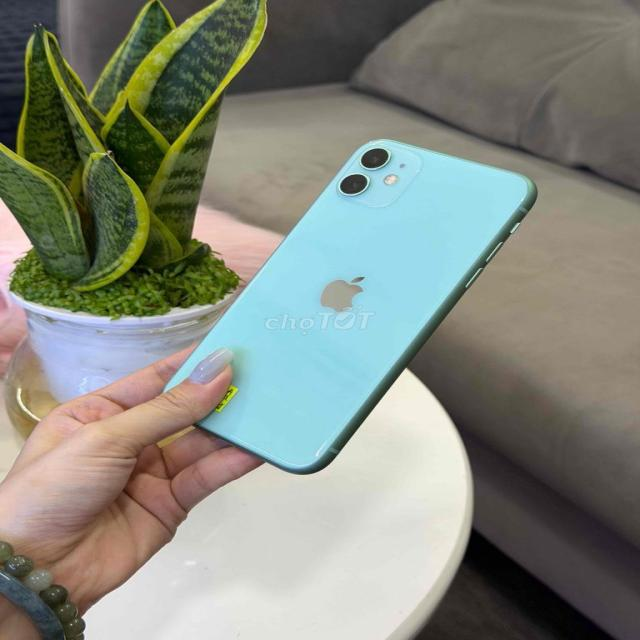gen_11: (157, 136, 544, 482)
